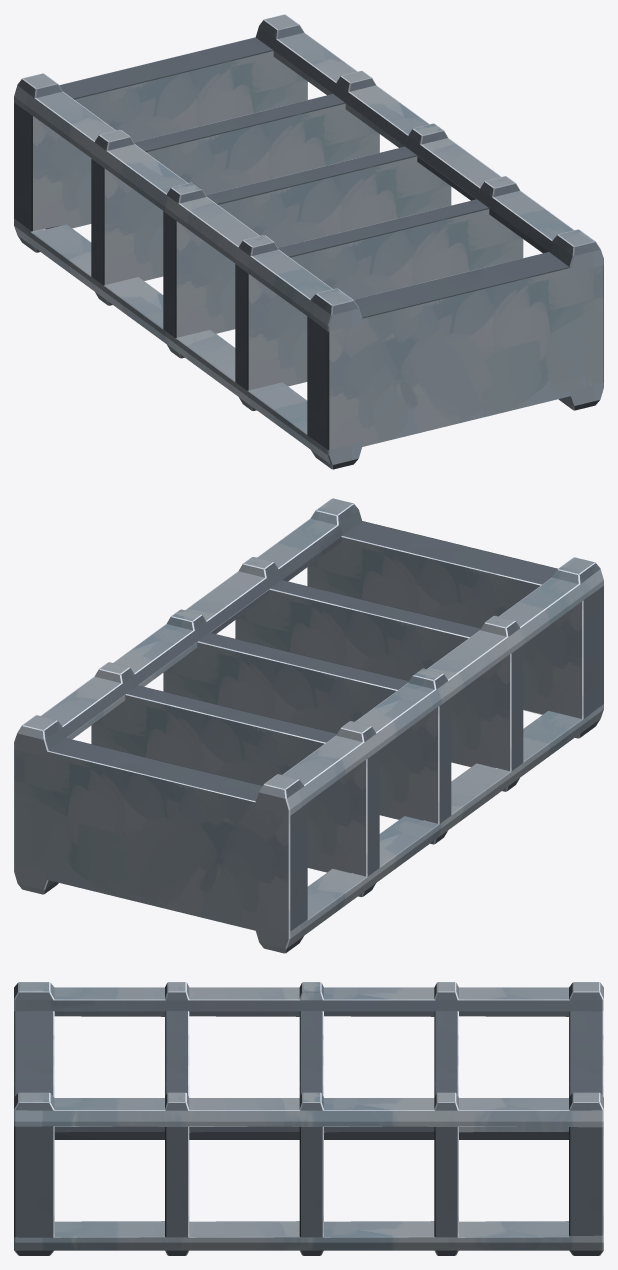
File: shelf 1_ver2.fbx
3 renders of one model, top to bottom at view 1: azimuth 30°, elevation 25°; view 2: azimuth 150°, elevation 25°; view 3: azimuth 270°, elevation 25°, orthographic. The views are drawn at different scales.
Parts seen in each view (by area): view 1: Cube.003; view 2: Cube.003; view 3: Cube.003.
Part boxes in pixels (<box>): Cube.003: <box>14,14,603,469</box>; Cube.003: <box>14,498,603,953</box>; Cube.003: <box>14,982,603,1255</box>.
Size of the model in its own units: 2462 by 1399 by 4862.
1 material, 1 textured.
